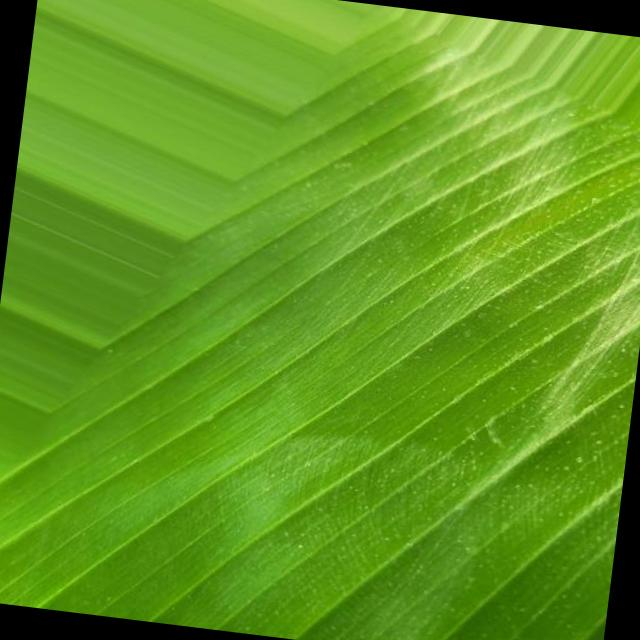Banana_Healthy: (212, 182, 622, 628)
